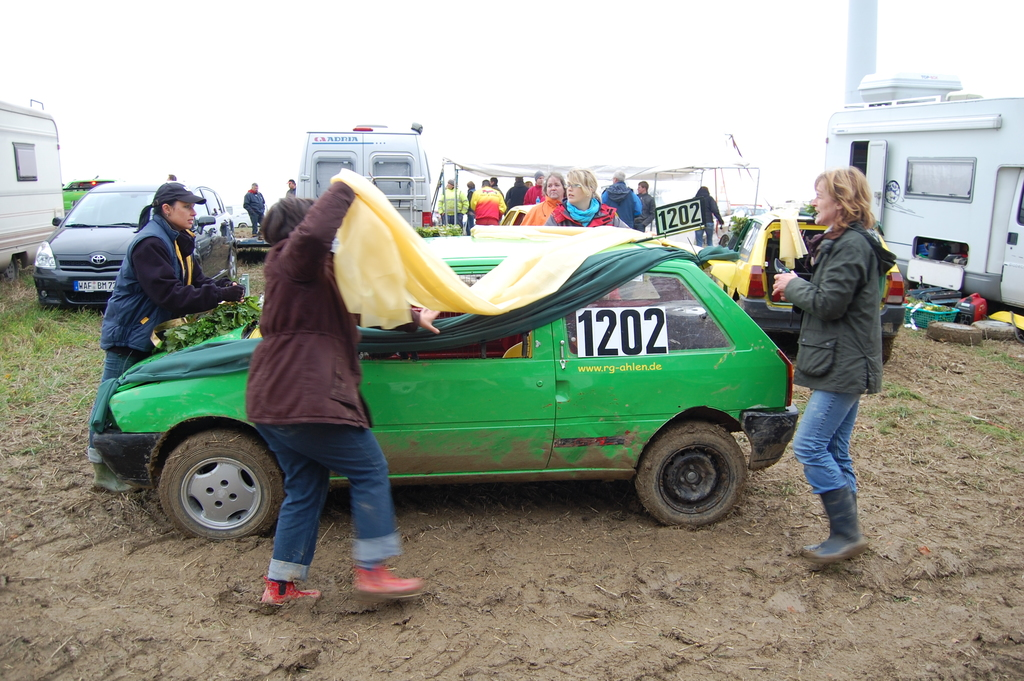Person: (243, 180, 443, 603), (770, 167, 897, 563), (88, 180, 245, 493), (436, 170, 657, 236), (544, 165, 629, 228), (520, 169, 566, 225), (689, 186, 725, 248), (242, 183, 266, 235), (285, 178, 298, 202), (284, 177, 295, 200)
